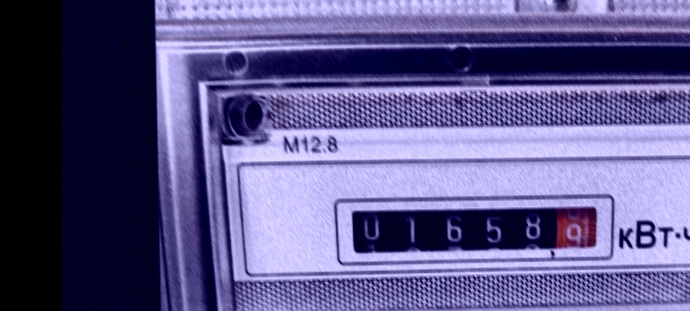0: (359, 209, 381, 241)
1: (403, 212, 417, 243)
5: (483, 211, 503, 244)
6: (443, 211, 464, 242)
8: (522, 209, 542, 241)
9: (563, 220, 581, 246)
screen: (326, 184, 618, 269)
